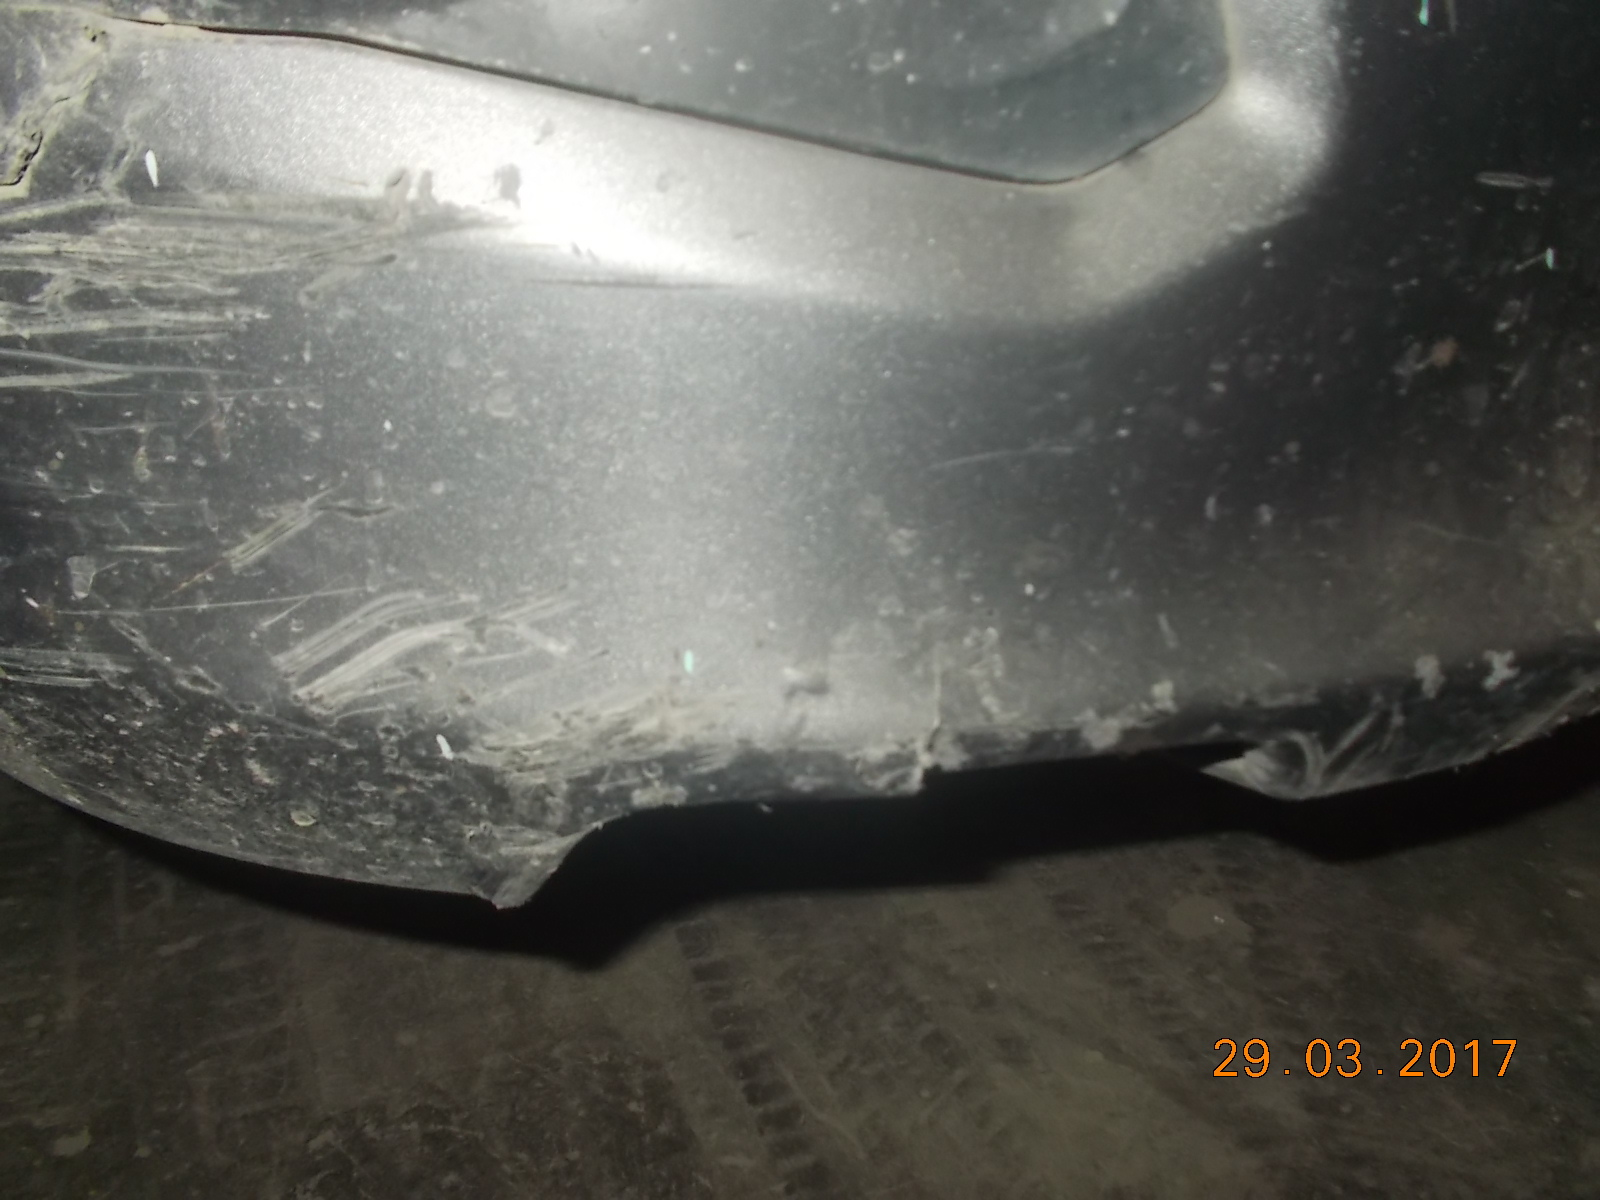Scratch_or_spot: (821, 717, 990, 792), (757, 603, 879, 697), (1052, 666, 1141, 745)
